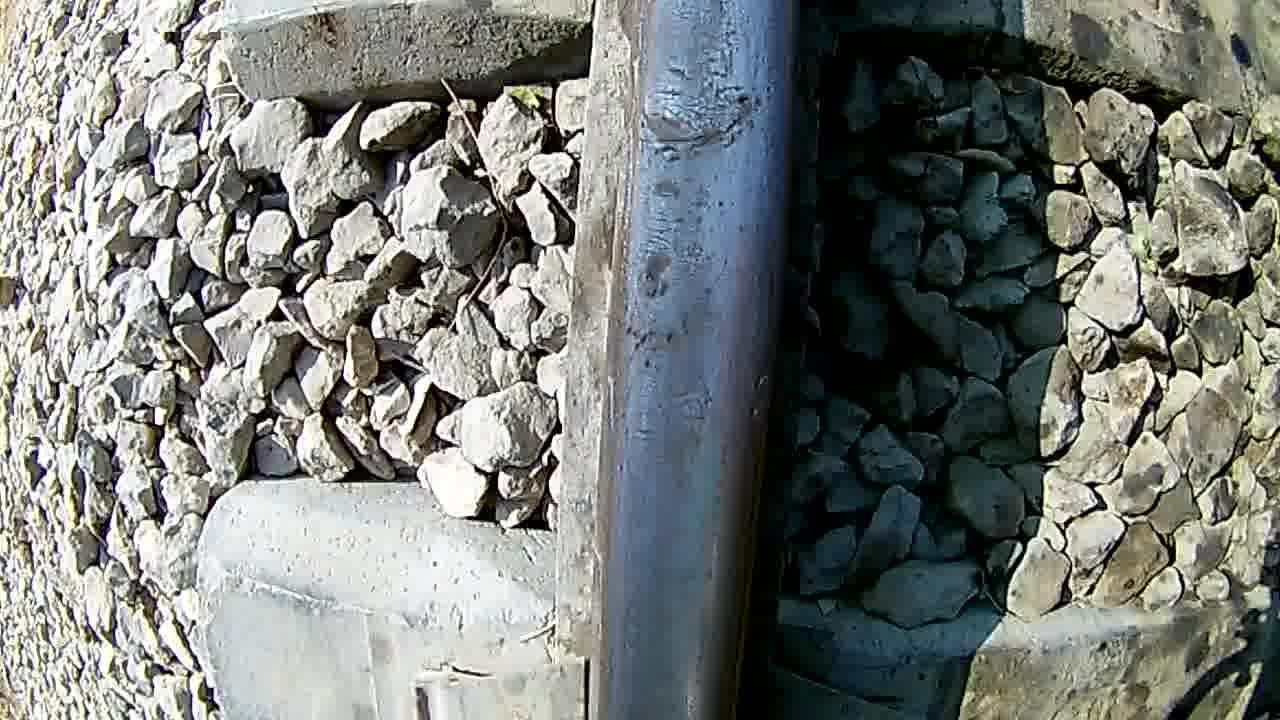crack: (574, 1, 788, 720)
